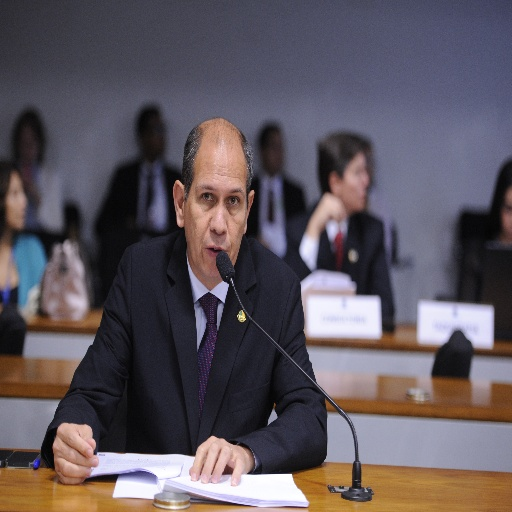hand: (50, 419, 96, 485), (190, 448, 249, 484), (321, 188, 346, 222)
